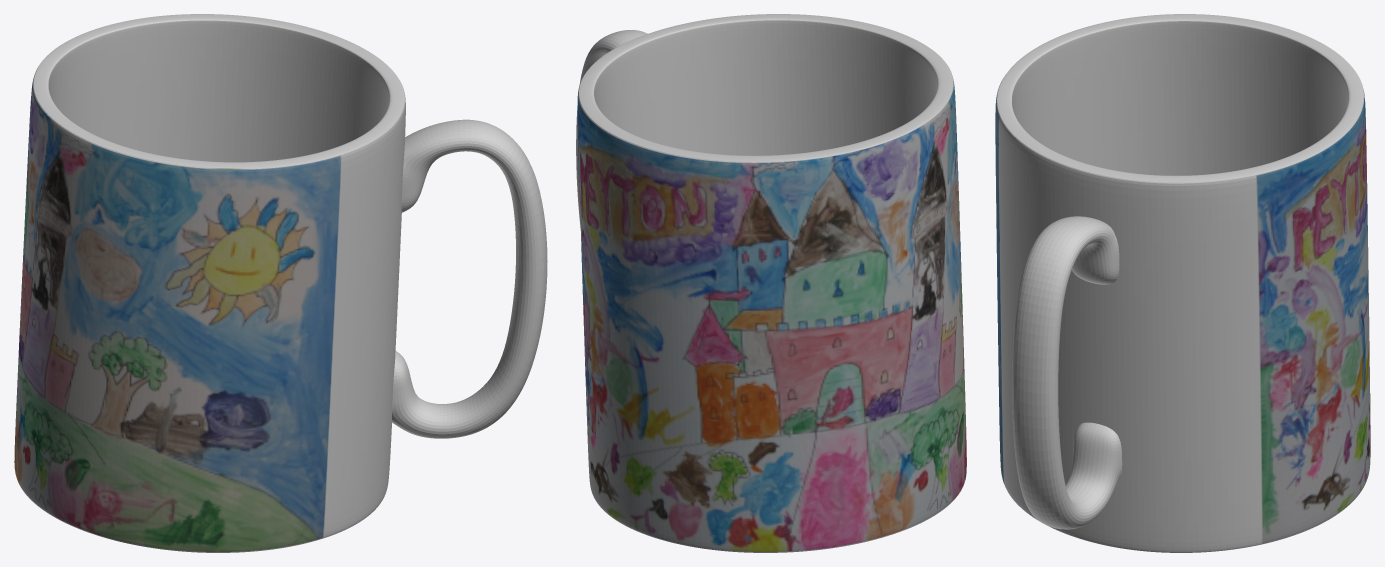
The model's file is asset.glb.
3 views of the same model, side by side, from view 1: azimuth 30°, elevation 25°; view 2: azimuth 150°, elevation 25°; view 3: azimuth 270°, elevation 25° (orthographic). The views are drawn at different scales.
Visible parts, largest first — view 1: HyperNURBS1 Polygon_1; view 2: HyperNURBS1 Polygon_1; view 3: HyperNURBS1 Polygon_1.
Boxes of the visible parts, left/top/right/bottom form: HyperNURBS1 Polygon_1: left=14, top=14, right=547, bottom=552; HyperNURBS1 Polygon_1: left=576, top=14, right=966, bottom=552; HyperNURBS1 Polygon_1: left=995, top=14, right=1370, bottom=552.
Size of the model in its own units: 314 by 276 by 239.
1 material, 1 textured.
